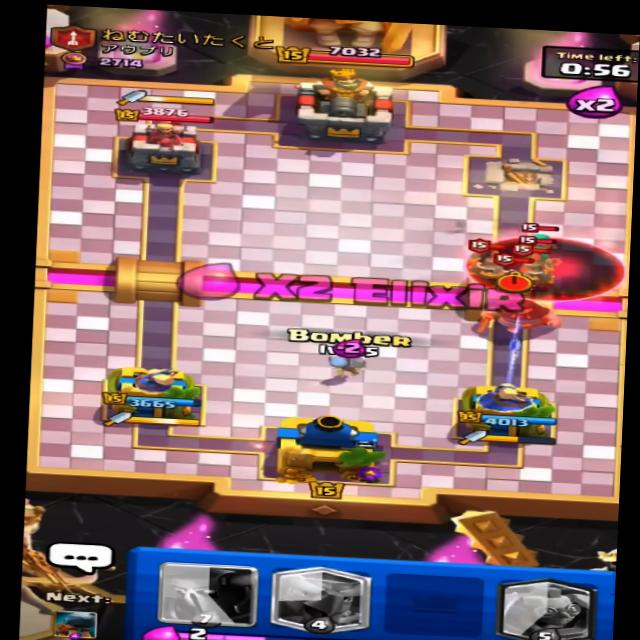guards: (464, 242, 504, 280), (524, 256, 558, 284)
rascal-boy: (479, 288, 567, 335)
rascal-girl: (526, 211, 562, 248)
